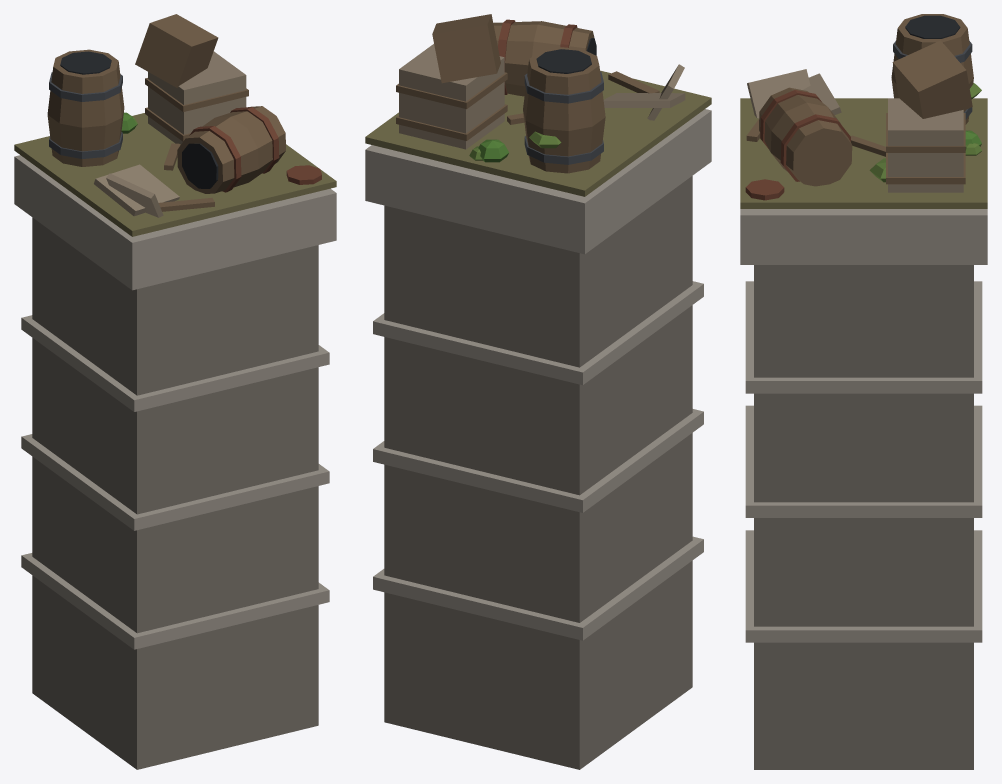
The model's file is decor_broken_barrels.glb.
The picture shows the model from 3 angles, left to right: view 1: azimuth 30°, elevation 25°; view 2: azimuth 150°, elevation 25°; view 3: azimuth 270°, elevation 25°; orthographic projection. The views are drawn at different scales.
Visible parts, largest first — view 1: decor_broken_barrels; view 2: decor_broken_barrels; view 3: decor_broken_barrels.
Boxes of the visible parts, x1=… form: decor_broken_barrels: x1=14, y1=14, x2=336, y2=769; decor_broken_barrels: x1=365, y1=14, x2=711, y2=769; decor_broken_barrels: x1=740, y1=14, x2=987, y2=769.
Size of the model in its own units: 1.8 by 5.53 by 1.8.
